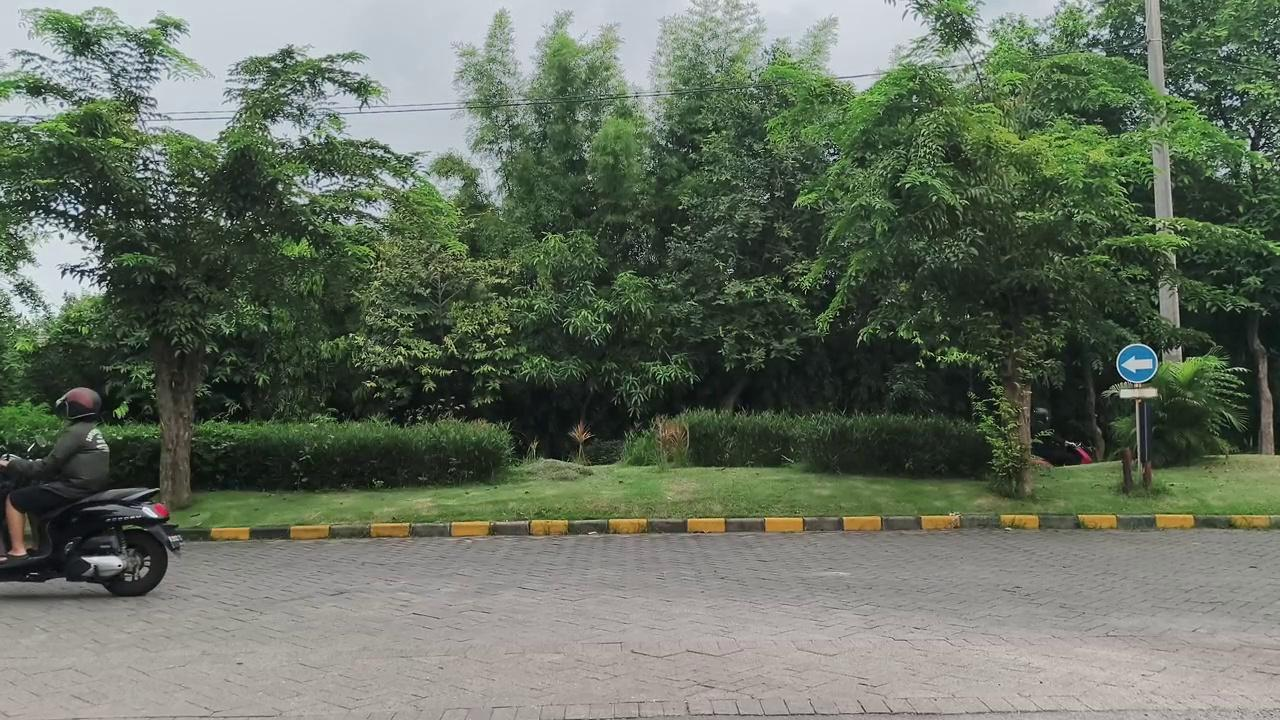Helmet: (0, 389, 108, 563)
Motor: (0, 488, 181, 596), (1033, 439, 1092, 466)
